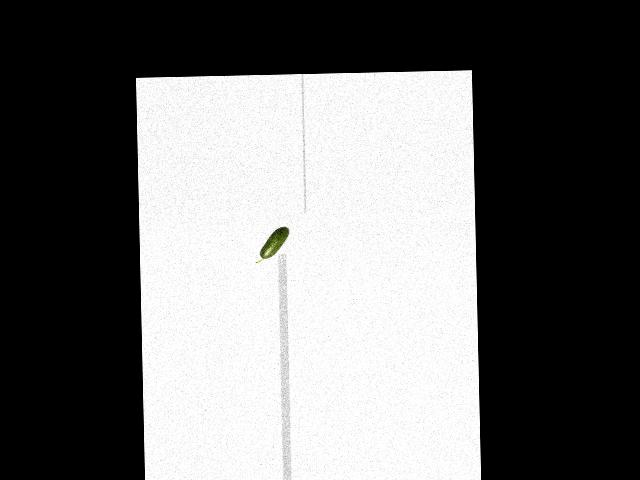cucumber: (255, 227, 290, 263)
